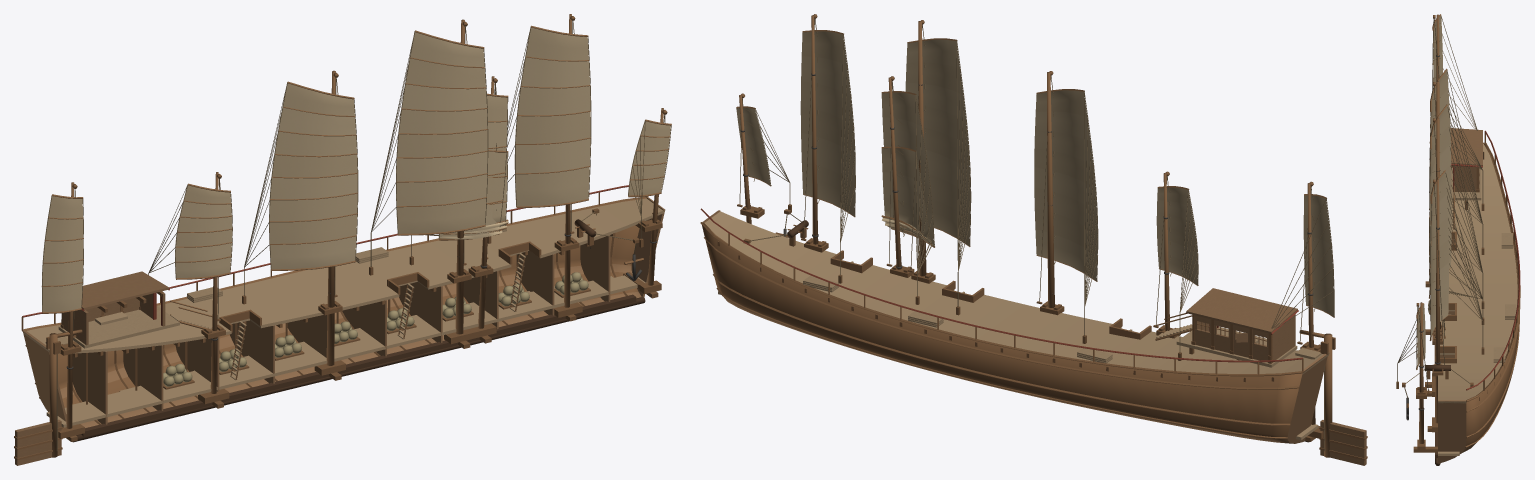
Rendered from liangchuan-section.glb.
The picture shows the model from 3 angles, left to right: view 1: azimuth 30°, elevation 25°; view 2: azimuth 150°, elevation 25°; view 3: azimuth 270°, elevation 25°; orthographic projection. The views are drawn at different scales.
Visible parts, largest first — view 1: Battened sail panels.012_WEB, Battened sail panels.011_WEB, Battened sail panels.013_WEB, Port planked shell.001_WEB, Battened sail panels.010_WEB, Battened sail panels.009_WEB, Keelson.001_WEB, Battened sail panels.014_WEB, Battened sail panels.017_WEB, Keel.001_WEB, Cambered upper shelter roof.001_WEB, Level floor.001_WEB (+30 smaller); view 2: Port planked shell.001_WEB, Battened sail panels.011_WEB, Battened sail panels.012_WEB, Battened sail panels.013_WEB, Battened sail panels.010_WEB, Cambered upper shelter roof.001_WEB, Battened sail panels.009_WEB, Battened sail panels.015_WEB, Battened sail panels.014_WEB, Stern transom.001_WEB, Battened sail panels.017_WEB, Tapered mast.009_WEB (+22 smaller); view 3: Port planked shell.001_WEB, Battened sail panels.013_WEB, Bow closure.001_WEB, Battened sail panels.012_WEB, Cambered upper shelter roof.001_WEB, Tapered mast.011_WEB, Battened sail panels.011_WEB, Main deck plank.070_WEB, Main deck plank.061_WEB, Main deck plank.060_WEB, Main deck plank.062_WEB, Front panel.002_WEB (+45 smaller).
Boxes of the visible parts, left/top/right/bottom form: Battened sail panels.012_WEB: left=396, top=31, right=487, bottom=233; Battened sail panels.011_WEB: left=269, top=82, right=357, bottom=269; Battened sail panels.013_WEB: left=514, top=27, right=590, bottom=206; Port planked shell.001_WEB: left=26, top=198, right=646, bottom=427; Battened sail panels.010_WEB: left=175, top=184, right=232, bottom=277; Battened sail panels.009_WEB: left=41, top=196, right=83, bottom=311; Keelson.001_WEB: left=81, top=294, right=636, bottom=436; Battened sail panels.014_WEB: left=438, top=95, right=507, bottom=239; Battened sail panels.017_WEB: left=628, top=120, right=670, bottom=195; Keel.001_WEB: left=72, top=297, right=645, bottom=442; Cambered upper shelter roof.001_WEB: left=81, top=271, right=168, bottom=310; Level floor.001_WEB: left=58, top=306, right=179, bottom=348; Port planked shell.001_WEB: left=702, top=223, right=1302, bottom=443; Battened sail panels.011_WEB: left=1034, top=90, right=1097, bottom=280; Battened sail panels.012_WEB: left=905, top=39, right=970, bottom=246; Battened sail panels.013_WEB: left=800, top=31, right=855, bottom=216; Battened sail panels.010_WEB: left=1156, top=187, right=1197, bottom=285; Cambered upper shelter roof.001_WEB: left=1186, top=288, right=1297, bottom=333; Battened sail panels.009_WEB: left=1303, top=195, right=1333, bottom=316; Battened sail panels.015_WEB: left=881, top=148, right=930, bottom=244; Battened sail panels.014_WEB: left=881, top=92, right=933, bottom=246; Stern transom.001_WEB: left=1287, top=354, right=1327, bottom=443; Battened sail panels.017_WEB: left=736, top=107, right=770, bottom=185; Tapered mast.009_WEB: left=1047, top=72, right=1054, bottom=307; Port planked shell.001_WEB: left=1461, top=144, right=1518, bottom=453; Battened sail panels.013_WEB: left=1431, top=171, right=1448, bottom=338; Bow closure.001_WEB: left=1438, top=400, right=1466, bottom=463; Battened sail panels.012_WEB: left=1429, top=105, right=1451, bottom=292; Cambered upper shelter roof.001_WEB: left=1450, top=128, right=1482, bottom=165; Tapered mast.011_WEB: left=1435, top=179, right=1440, bottom=423; Battened sail panels.011_WEB: left=1430, top=70, right=1451, bottom=175; Main deck plank.070_WEB: left=1443, top=330, right=1512, bottom=338; Main deck plank.061_WEB: left=1449, top=275, right=1517, bottom=283; Main deck plank.060_WEB: left=1449, top=267, right=1516, bottom=275; Main deck plank.062_WEB: left=1449, top=283, right=1517, bottom=291; Front panel.002_WEB: left=1454, top=165, right=1476, bottom=191.
Size of the model in its own units: 45.5 by 22.44 by 8.97.
Materials: 24 (10 with a texture image).
